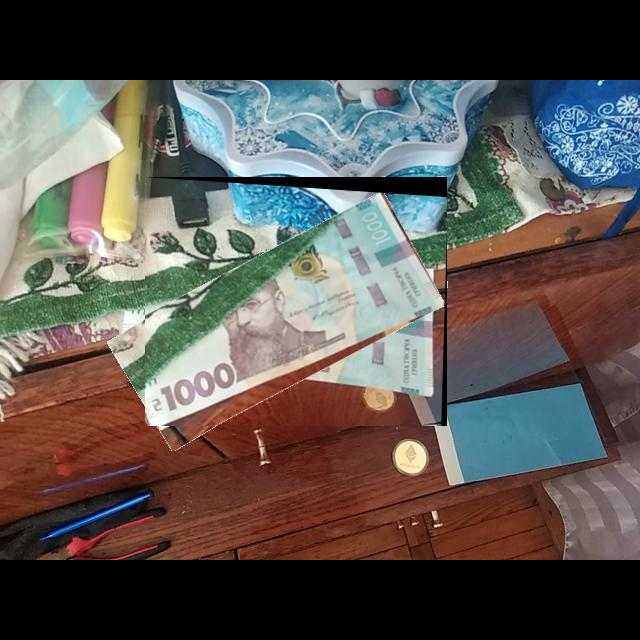1000uah: (145, 190, 446, 427)
